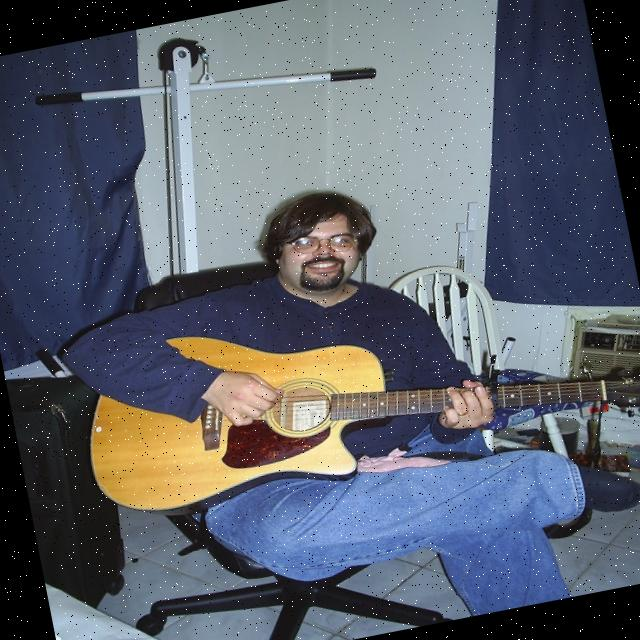guitar: (65, 248, 640, 533)
